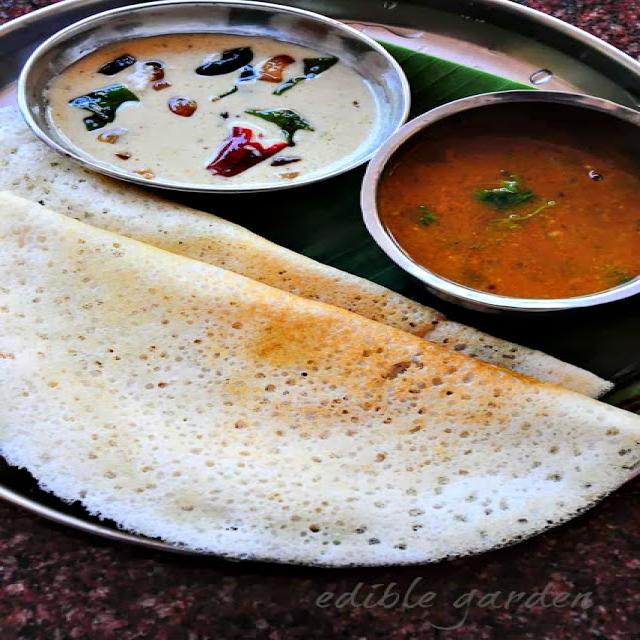Wet Waste: (0, 191, 637, 563), (3, 103, 607, 415), (39, 13, 398, 185)
